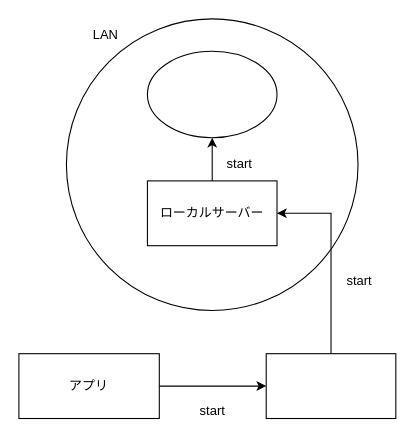
Some shapes in this 415 by 446 pixel diagram are drawn without their labels. Each missing label, with the box of its shape:
アプリサーバ: (265, 353, 396, 418)
ドローン: (146, 50, 277, 138)
